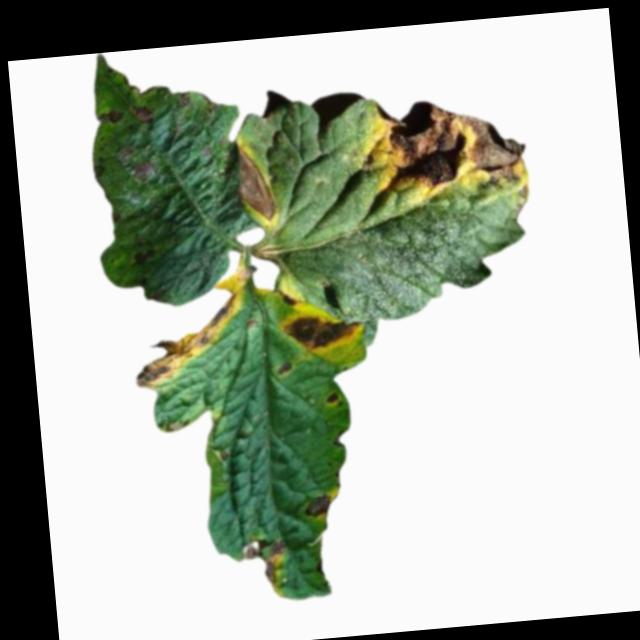Early_blight: (358, 89, 530, 201), (117, 263, 255, 391), (234, 139, 276, 224), (286, 310, 362, 354), (239, 533, 290, 590), (300, 490, 332, 518), (126, 103, 154, 124), (94, 107, 122, 123), (273, 358, 294, 378), (323, 391, 340, 405)
